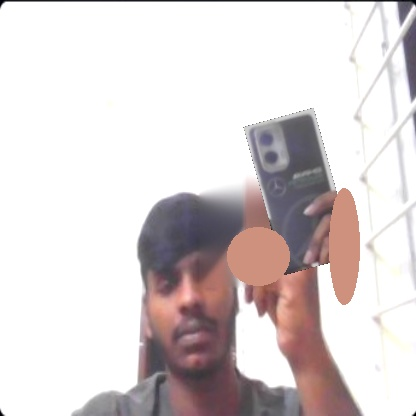cell_phone: (243, 108, 354, 275)
